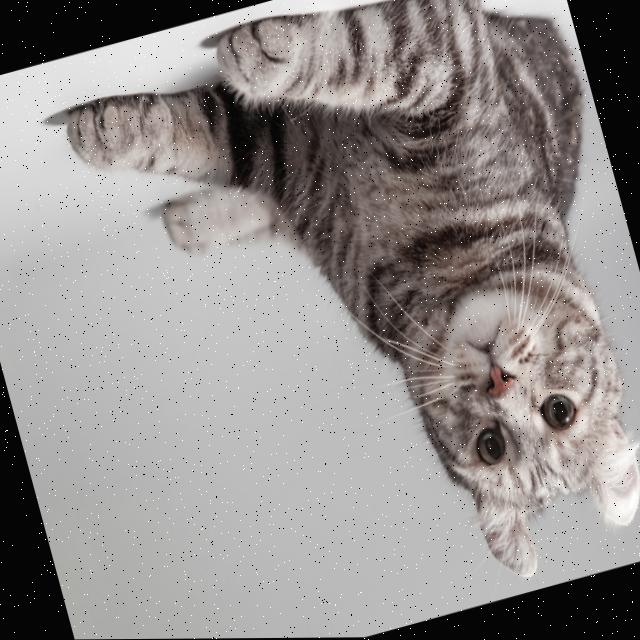American Curl: (47, 0, 640, 640)
